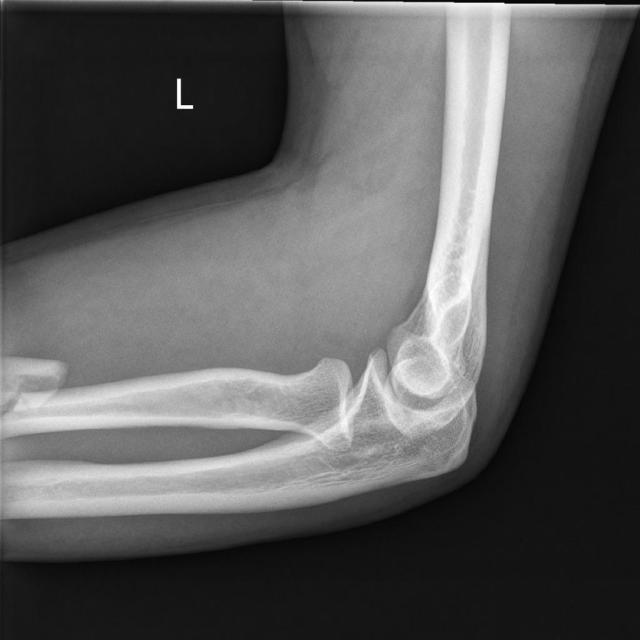fracture: (0, 344, 76, 441)
